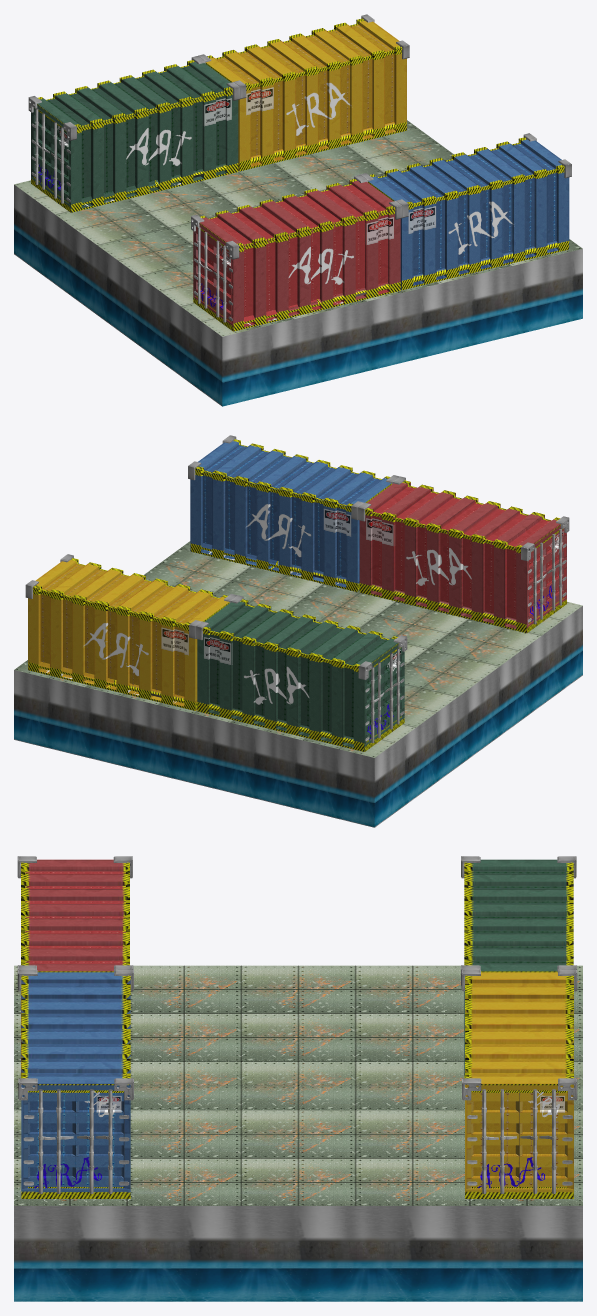
The model's file is tile Hallway rev2(1).fbx.
3 views of the same model, one above another, from view 1: azimuth 30°, elevation 25°; view 2: azimuth 150°, elevation 25°; view 3: azimuth 270°, elevation 25° (orthographic). The views are drawn at different scales.
Visible parts, largest first — view 1: Cube, Cube.005, Cube.001, Cube.002, Cube.004; view 2: Cube, Cube.005, Cube.001, Cube.004, Cube.002; view 3: Cube, Cube.002, Cube.004, Cube.005, Cube.001.
Boxes of the visible parts, bbox=[...] form: Cube: bbox=[14, 120, 582, 406]; Cube.005: bbox=[28, 56, 240, 212]; Cube.001: bbox=[191, 174, 402, 331]; Cube.002: bbox=[360, 133, 571, 290]; Cube.004: bbox=[198, 14, 409, 171]; Cube: bbox=[14, 541, 582, 827]; Cube.005: bbox=[195, 595, 407, 751]; Cube.001: bbox=[357, 476, 569, 633]; Cube.004: bbox=[25, 554, 236, 710]; Cube.002: bbox=[188, 435, 399, 592]; Cube: bbox=[14, 965, 582, 1301]; Cube.002: bbox=[18, 969, 133, 1198]; Cube.004: bbox=[461, 969, 577, 1198]; Cube.005: bbox=[461, 856, 576, 1078]; Cube.001: bbox=[17, 856, 133, 1077].
Bounding box in the file's own units: 20000 × 8250 × 20000.
